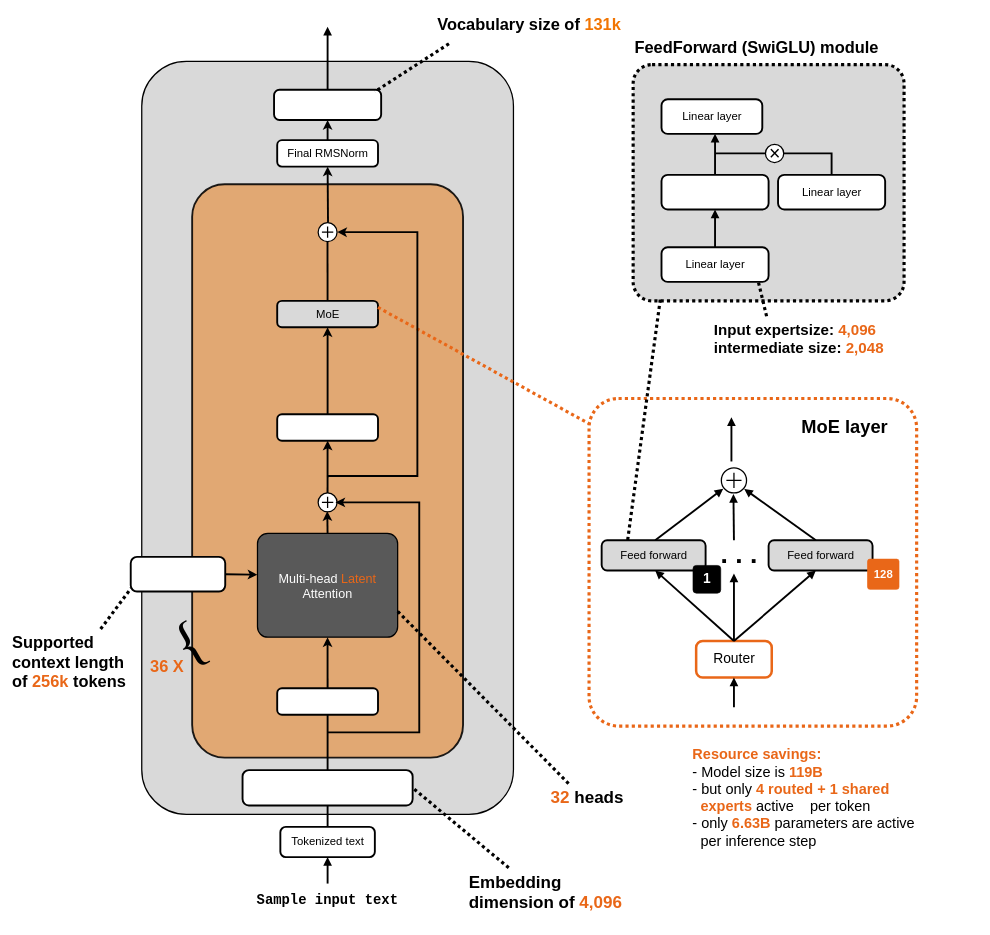
Some shapes in this 990 by 935 pixel diagram are drawn without their labels. The shapes that lost their labels are listed below. From the top down, each one's box as (x1, y1, x2, y2) in pixels, then its label:
(273, 89, 382, 121): Linear output layer
(660, 174, 769, 210): SiLU activation
(276, 413, 379, 441): RMSNorm 2
(129, 556, 226, 592): RoPE
(276, 687, 379, 715): RMSNorm 1
(241, 769, 413, 806): Token embedding layer
